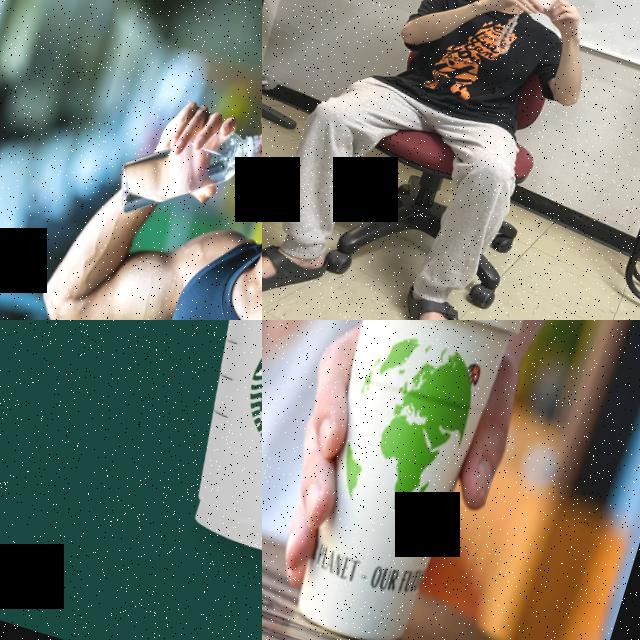bottle: (109, 97, 262, 244)
cup: (262, 320, 538, 640), (139, 320, 262, 587)
